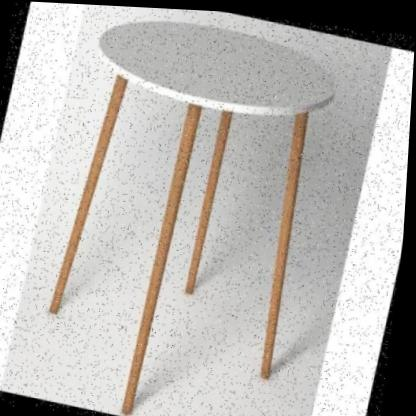Table: (6, 1, 375, 416)
